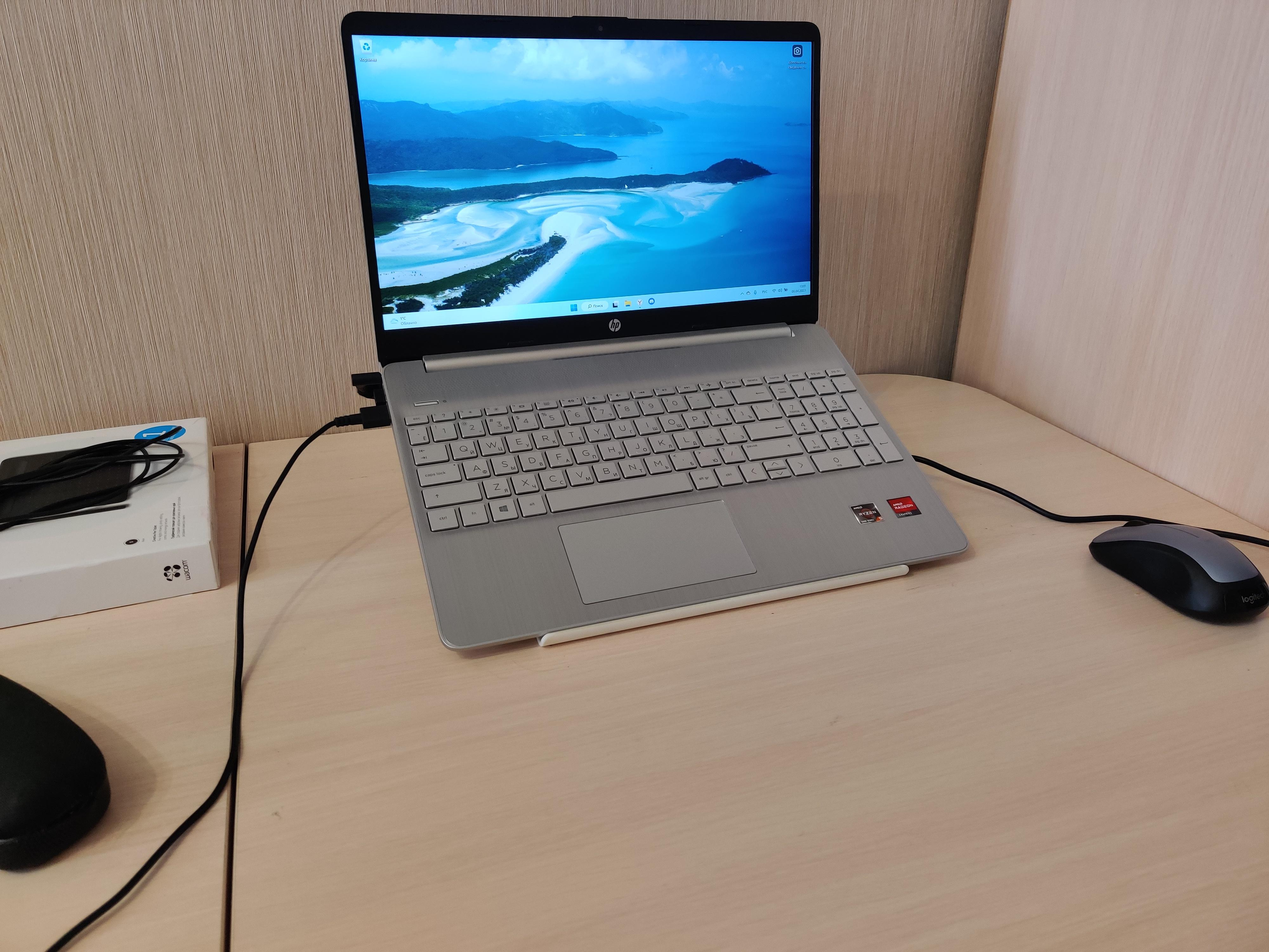monitor: (339, 6, 828, 370)
